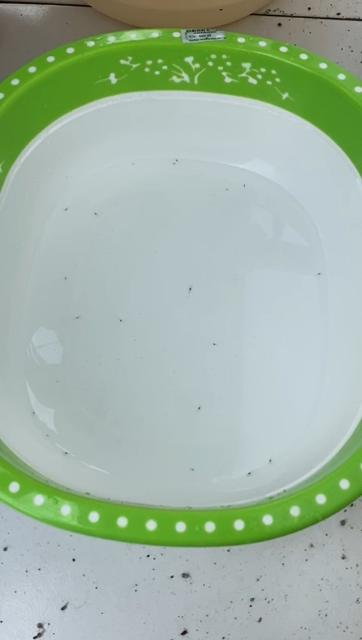benur: (240, 182, 249, 190), (187, 284, 195, 291), (224, 186, 232, 193), (211, 340, 218, 348), (44, 432, 51, 439), (246, 472, 253, 479), (197, 404, 204, 411), (75, 314, 82, 320), (267, 460, 274, 466), (62, 451, 70, 456), (64, 276, 69, 281), (32, 410, 37, 415), (190, 467, 195, 472), (318, 271, 323, 276), (93, 211, 98, 215), (64, 208, 68, 212), (119, 319, 123, 323), (131, 162, 136, 165), (175, 159, 179, 162), (173, 162, 176, 165)
